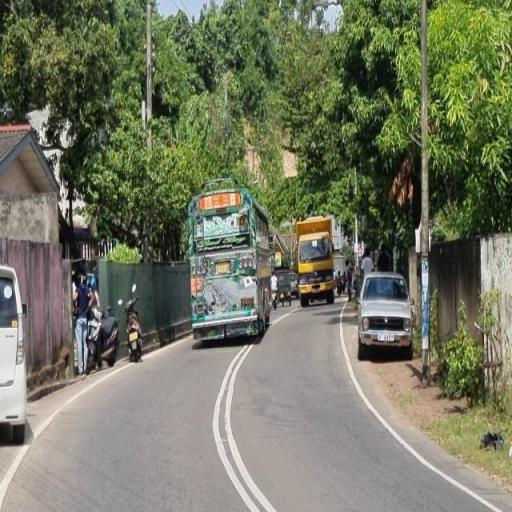double_white_line: (338, 310, 500, 511), (212, 345, 274, 512)
